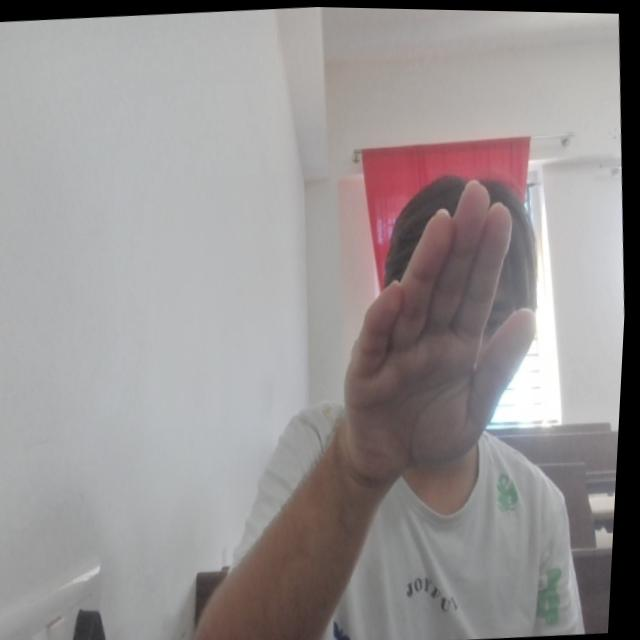hello: (327, 168, 558, 487)
